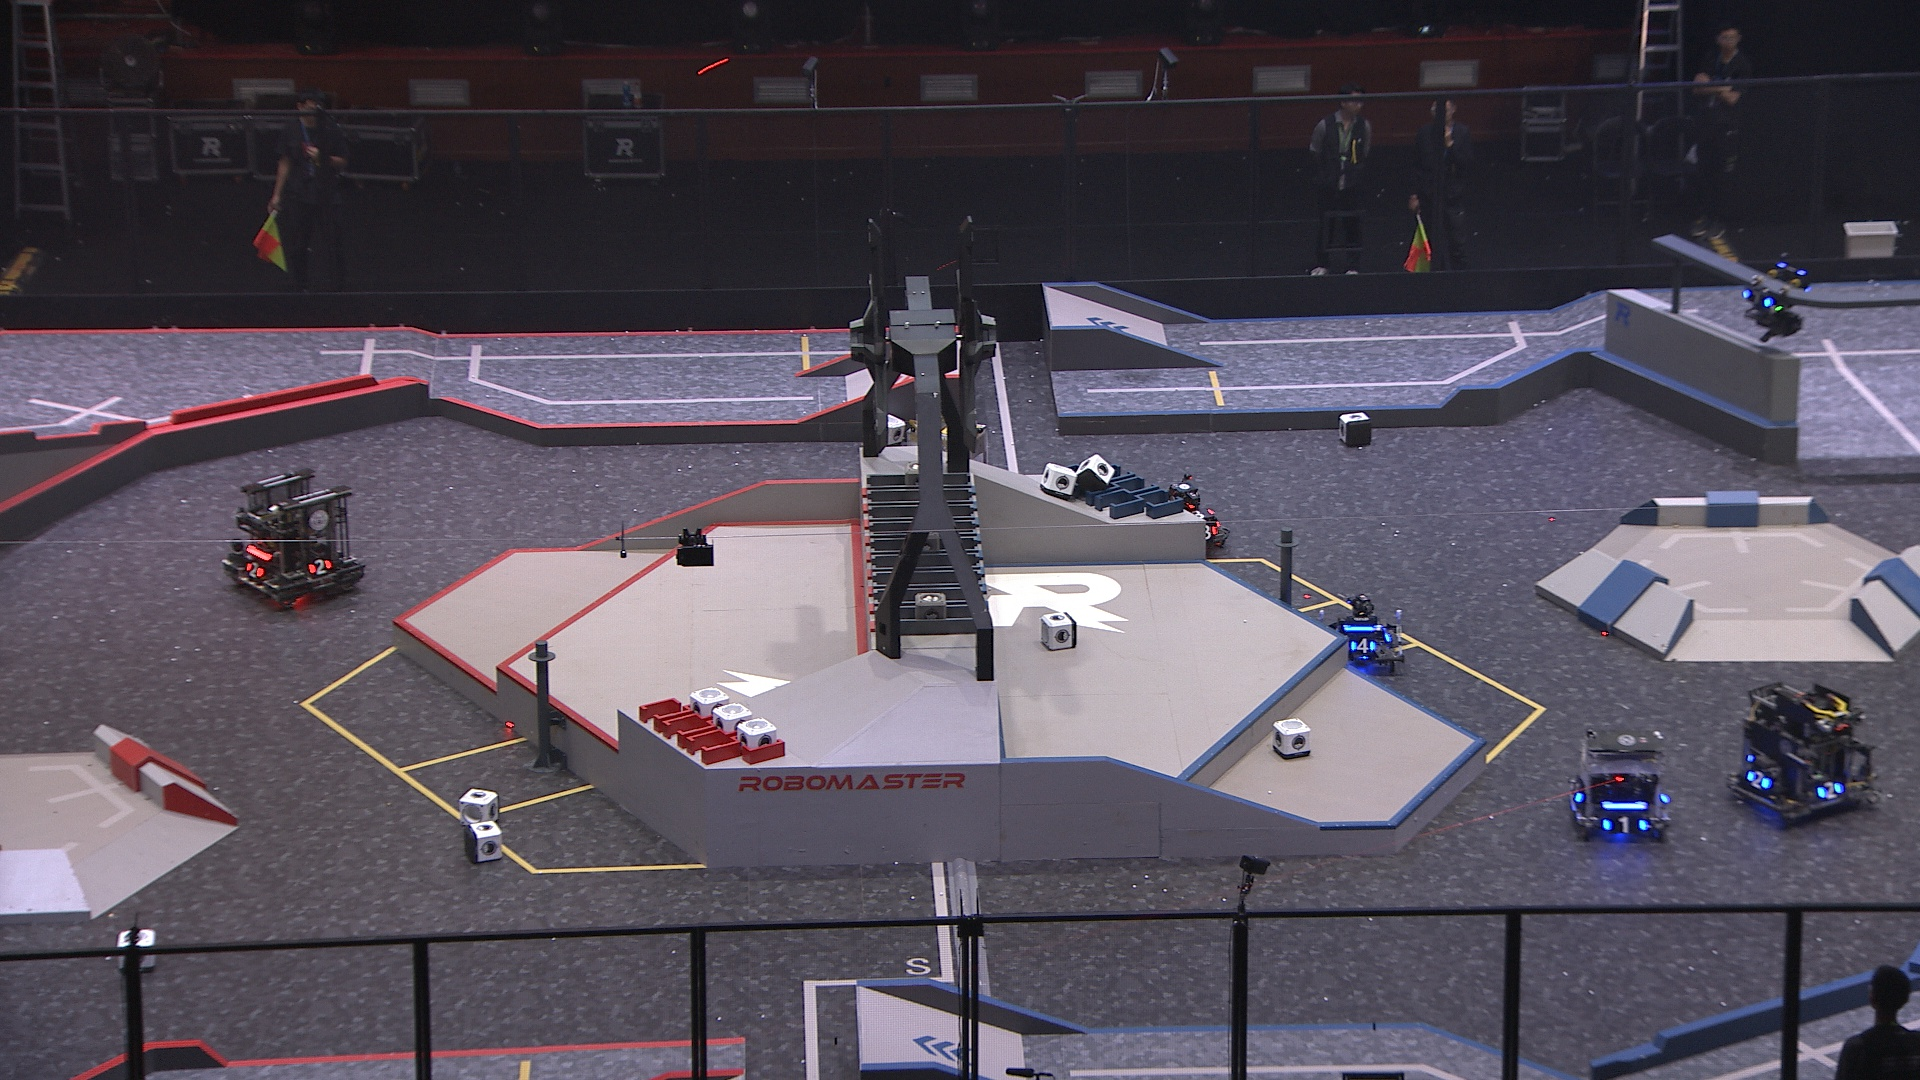armor: (1604, 816, 1646, 837), (305, 555, 334, 576), (1745, 287, 1774, 309), (1569, 781, 1586, 816), (1747, 767, 1770, 790), (1352, 638, 1378, 657), (1816, 782, 1842, 800), (244, 560, 264, 580), (1201, 524, 1216, 538), (1189, 509, 1207, 520)
car: (1724, 680, 1884, 825), (218, 463, 371, 609), (1567, 727, 1673, 844), (901, 404, 992, 500), (1139, 477, 1228, 566), (1321, 597, 1404, 678)
watcher: (1742, 261, 1812, 343)
